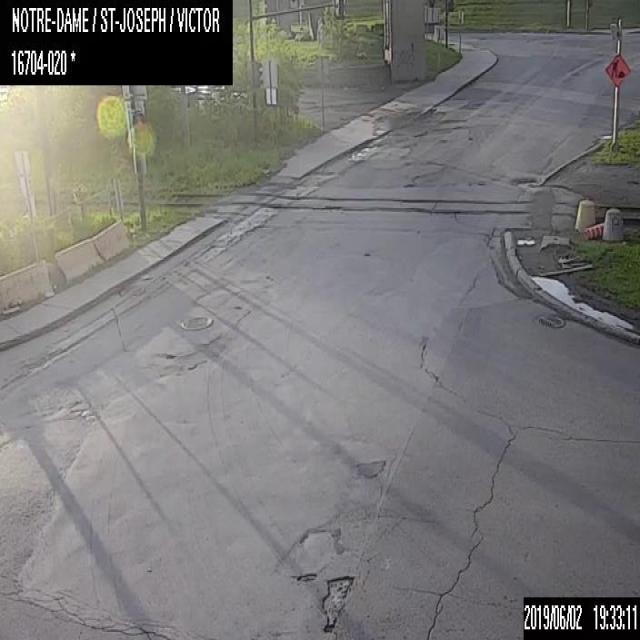construction: (604, 53, 631, 87), (584, 222, 603, 238)
